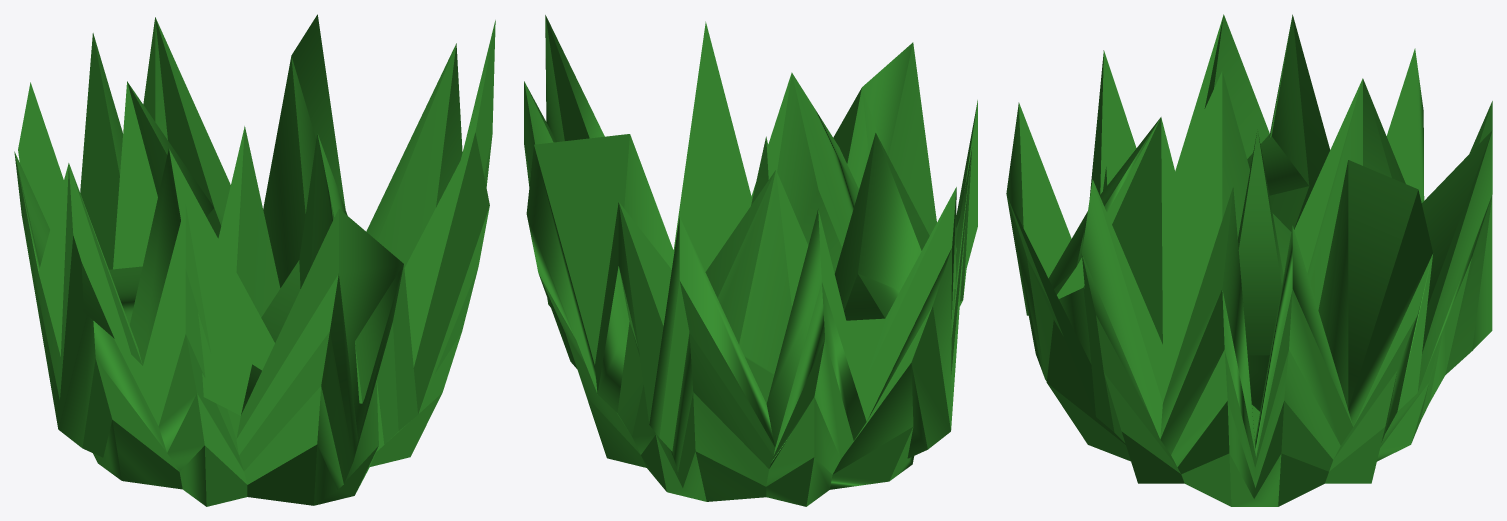
File: grass.fbx
3 renders of one model, left to right at view 1: azimuth 30°, elevation 25°; view 2: azimuth 150°, elevation 25°; view 3: azimuth 270°, elevation 25°, orthographic. The views are drawn at different scales.
Parts seen in each view (by area): view 1: grass; view 2: grass; view 3: grass.
Part boxes in pixels (left/top/right/bottom): grass: left=14, top=14, right=495, bottom=506; grass: left=524, top=15, right=977, bottom=506; grass: left=1006, top=14, right=1492, bottom=506.
Size of the model in its own units: 290 by 227 by 277.
